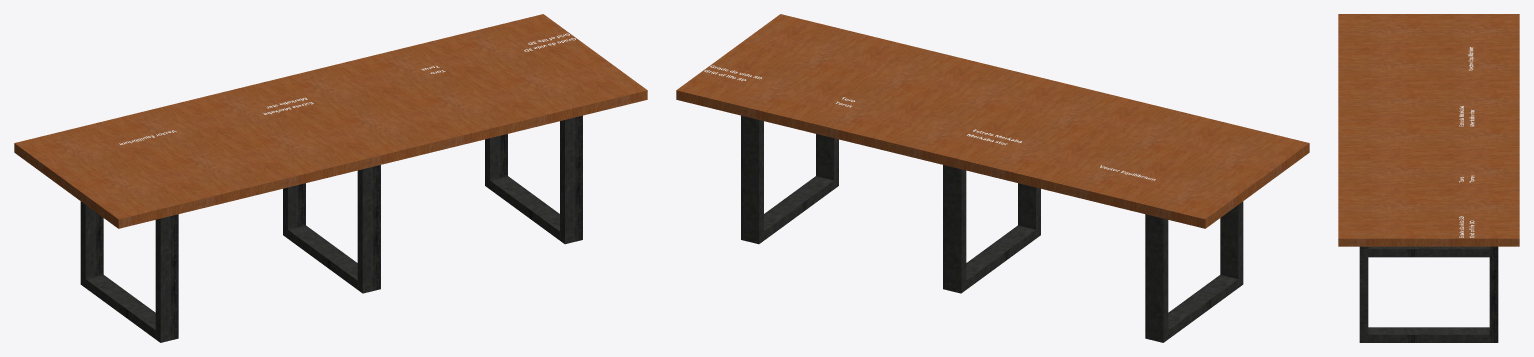
The model's file is geomSagrada6.glb.
The picture shows the model from 3 angles, left to right: view 1: azimuth 30°, elevation 25°; view 2: azimuth 150°, elevation 25°; view 3: azimuth 270°, elevation 25°; orthographic projection. The views are drawn at different scales.
Visible parts, largest first — view 1: object 1, Composant#1 (×3); view 2: object 1, Composant#1 (×3); view 3: object 1, Composant#1 (×2), Grade da vida 3D, Estrela Merkaba.
Boxes of the visible parts, bbox=[...] form: object 1: bbox=[14, 14, 647, 228]; Composant#1 (×3): bbox=[80, 115, 582, 342]; object 1: bbox=[676, 14, 1309, 228]; Composant#1 (×3): bbox=[741, 115, 1243, 342]; object 1: bbox=[1338, 14, 1519, 246]; Composant#1 (×2): bbox=[1359, 246, 1498, 342]; Grade da vida 3D: bbox=[1459, 216, 1474, 237]; Estrela Merkaba: bbox=[1459, 106, 1474, 126].
Size of the model in its own units: 2.93 by 0.771 by 1.
3 materials, 2 textured.
